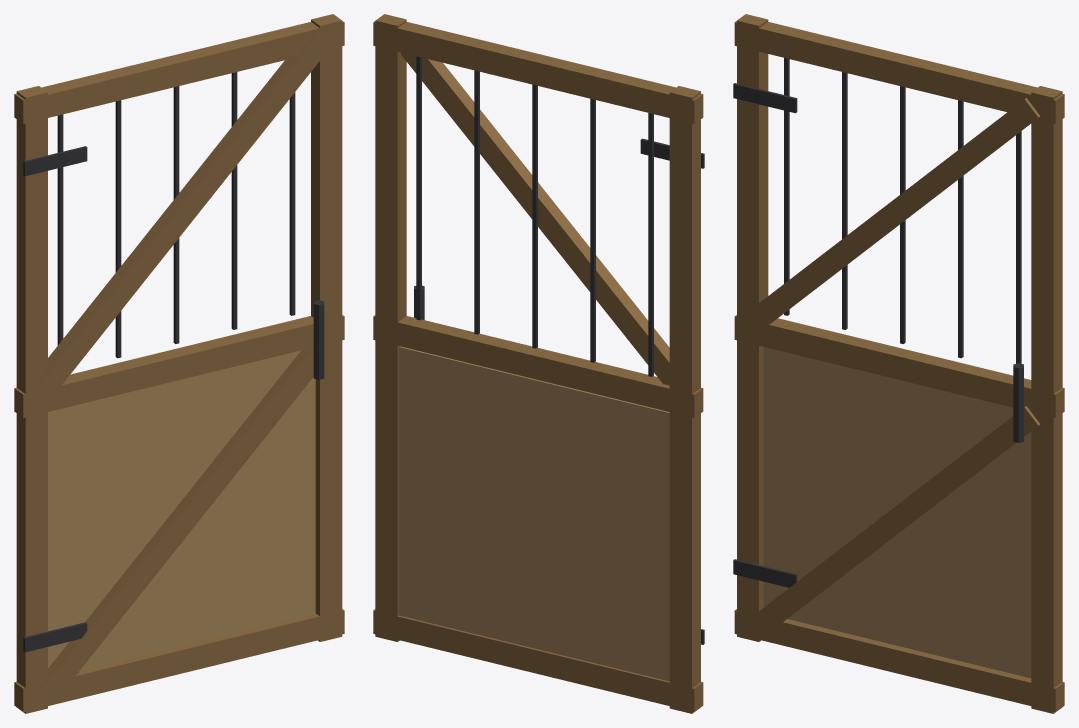
File: Prop_Release_Crate_Door.glb
The picture shows the model from 3 angles, left to right: view 1: azimuth 30°, elevation 25°; view 2: azimuth 150°, elevation 25°; view 3: azimuth 330°, elevation 25°; orthographic projection.
Parts seen in each view (by area): view 1: Prop_Release_Crate_Door; view 2: Prop_Release_Crate_Door; view 3: Prop_Release_Crate_Door.
Part boxes in pixels (left/top/right/bottom): Prop_Release_Crate_Door: left=14, top=14, right=344, bottom=713; Prop_Release_Crate_Door: left=373, top=14, right=704, bottom=713; Prop_Release_Crate_Door: left=733, top=14, right=1064, bottom=713.
Size of what is drawn, in the model's own units: 0.72 by 1.32 by 0.0679.
